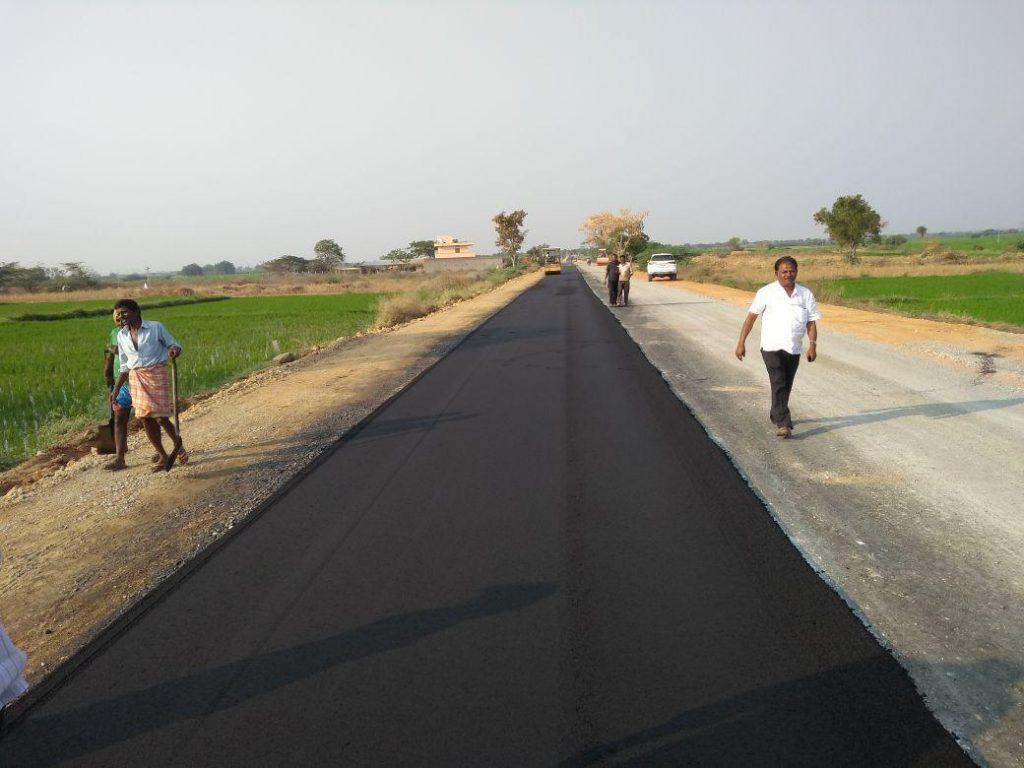car: (647, 248, 685, 290)
person: (728, 250, 836, 444), (92, 294, 200, 476), (598, 243, 653, 311)
